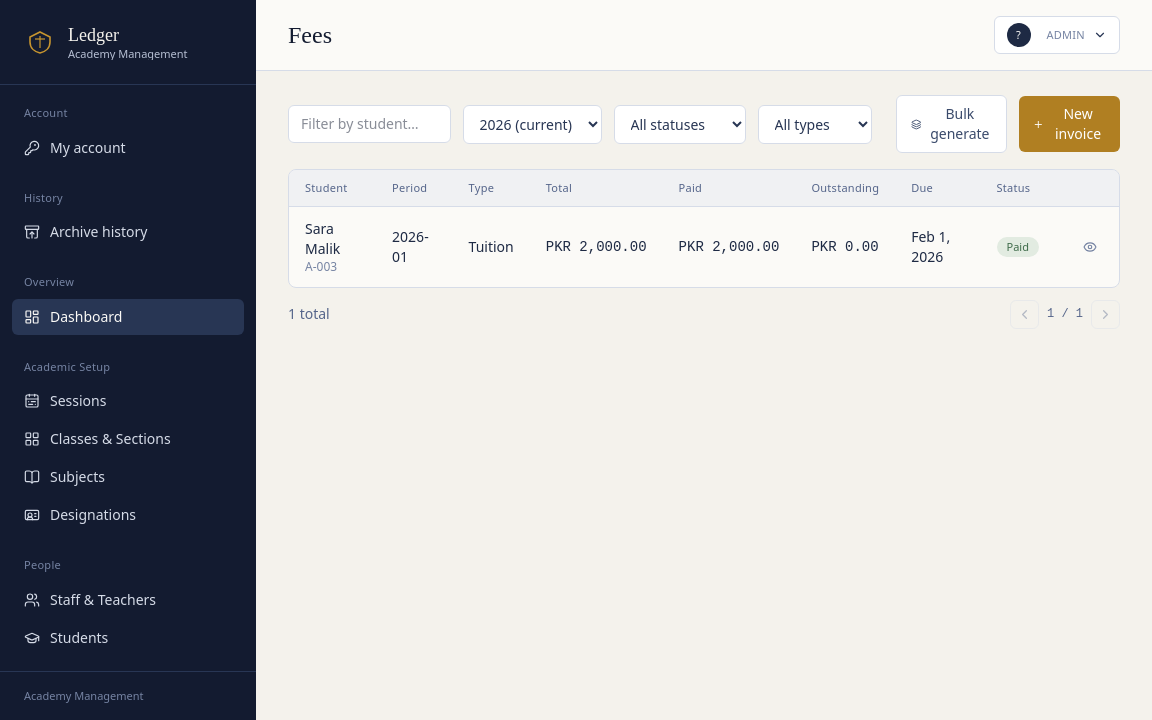
Invoice detail modal › hides Waive and Record payment for an already-paid invoice
What coordinates should you click on to do the following:
click the button named "View invoice"
I would click on:
 (1090, 247)
Its box is [1077,234,1103,260].
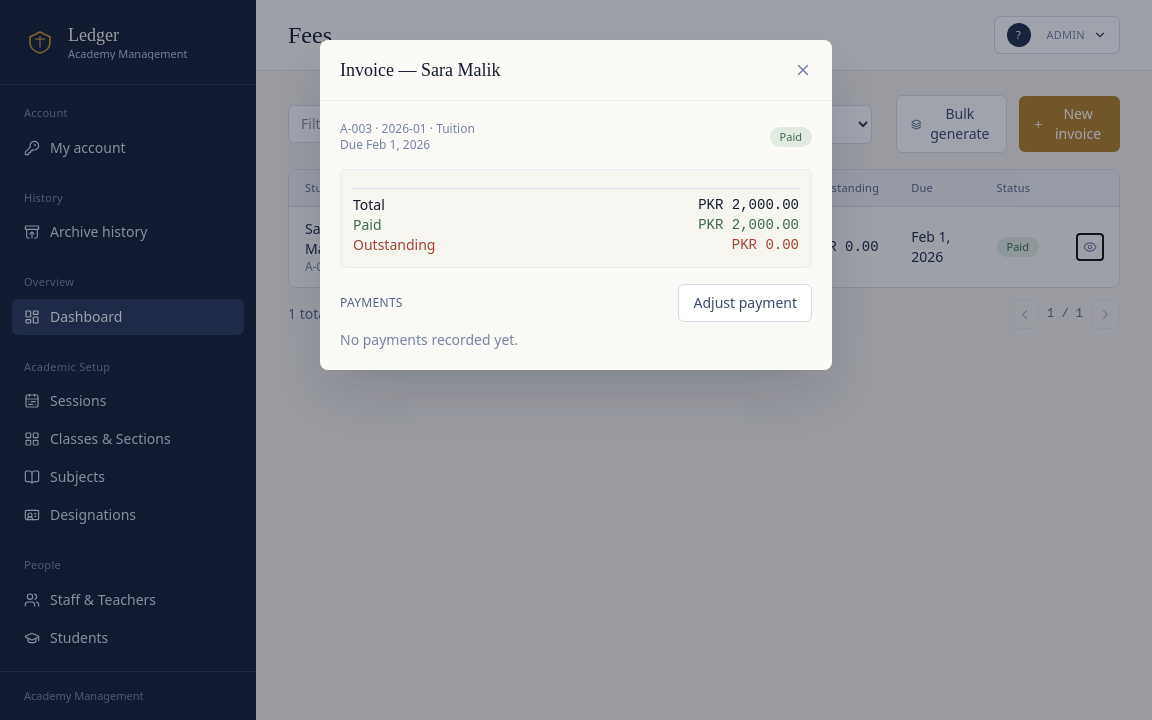
Result: the heading "Invoice — Sara Malik" is shown at [340,56,500,84]
